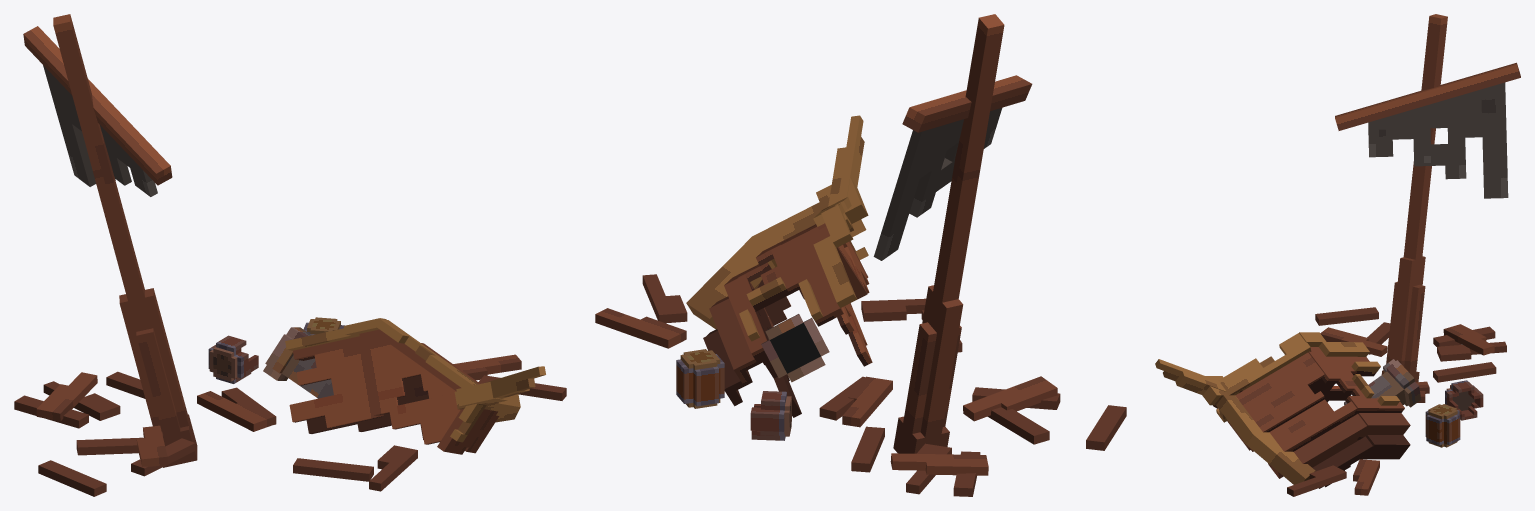
File: prop_shipwreck.glb
The picture shows the model from 3 angles, left to right: view 1: azimuth 30°, elevation 25°; view 2: azimuth 150°, elevation 25°; view 3: azimuth 270°, elevation 25°; orthographic projection. The views are drawn at different scales.
Parts seen in each view (by area): view 1: xcq-Local, m1-Local, ship_bow-Local, m2-Local, f1-Local, Pao2-Local, S1$$(1)-Local, w8-Local, w2$$(1)-Local, w10$$(1)-Local, w14-Local, w13-Local (+9 smaller); view 2: xcq-Local, m1-Local, f1-Local, Pao2-Local, m2-Local, T1$$(1)-Local, k2-Local, ship_bow-Local, w11-Local, w2$$(1)-Local, w6-Local, S1$$(1)-Local (+11 smaller); view 3: ship_bow-Local, f1-Local, m1-Local, xcq-Local, m2-Local, k2-Local, Pao2-Local, T1$$(1)-Local, S1$$(1)-Local, JB-Local, k1-Local, w3$$(1)-Local (+7 smaller).
Boxes of the visible parts, x1,y1,x2,y2 form: xcq-Local: (285,318,507,444); m1-Local: (53,14,197,467); ship_bow-Local: (375,319,499,454); m2-Local: (23,26,172,185); f1-Local: (43,65,157,196); Pao2-Local: (263,327,333,398); S1$$(1)-Local: (208,335,258,383); w8-Local: (197,391,273,431); w2$$(1)-Local: (36,372,97,421); w10$$(1)-Local: (293,458,373,481); w14-Local: (369,445,417,491); w13-Local: (38,460,106,496); xcq-Local: (703,177,872,417); m1-Local: (893,14,1004,453); f1-Local: (873,108,1002,260); Pao2-Local: (761,314,829,382); m2-Local: (902,75,1032,132); T1$$(1)-Local: (676,349,724,408); k2-Local: (686,237,775,329); ship_bow-Local: (707,197,868,335); w11-Local: (963,376,1057,421); w2$$(1)-Local: (890,453,988,475); w6-Local: (595,308,686,348); S1$$(1)-Local: (750,391,791,440); ship_bow-Local: (1216,333,1372,488); f1-Local: (1368,82,1508,198); m1-Local: (1381,14,1447,382); xcq-Local: (1202,332,1410,459); m2-Local: (1335,62,1520,130); k2-Local: (1246,429,1315,484); Pao2-Local: (1344,359,1421,407); T1$$(1)-Local: (1425,404,1460,447); S1$$(1)-Local: (1445,380,1483,420); JB-Local: (1155,359,1226,395); k1-Local: (1216,389,1265,443); w3$$(1)-Local: (1287,465,1346,496).
Bounding box in the file's own units: 125 × 112 × 106.
Materials: 15 (15 with a texture image).
